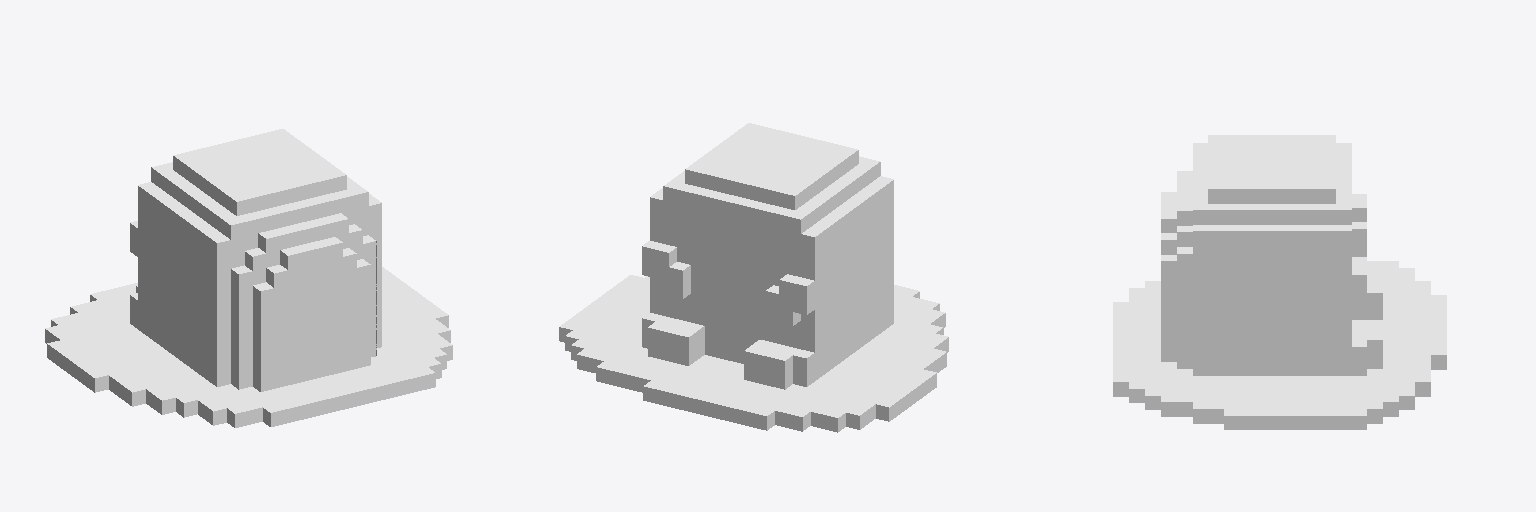
The model's file is gudetama.obj.
3 views of the same model, side by side, from view 1: azimuth 30°, elevation 25°; view 2: azimuth 150°, elevation 25°; view 3: azimuth 270°, elevation 25° (orthographic).
Parts seen in each view (by area): view 1: Yellow_Wool, White_Wool; view 2: Yellow_Wool, White_Wool, Black_Wool; view 3: Yellow_Wool, White_Wool.
Boxes of the visible parts, x1,y1,x2,y2 form: Yellow_Wool: [130, 129, 381, 391]; White_Wool: [45, 267, 452, 427]; Yellow_Wool: [642, 123, 893, 389]; White_Wool: [559, 275, 948, 432]; Black_Wool: [691, 222, 773, 277]; Yellow_Wool: [1161, 135, 1382, 375]; White_Wool: [1113, 257, 1446, 429].
Size of the model in its own units: 24 by 13 by 21.